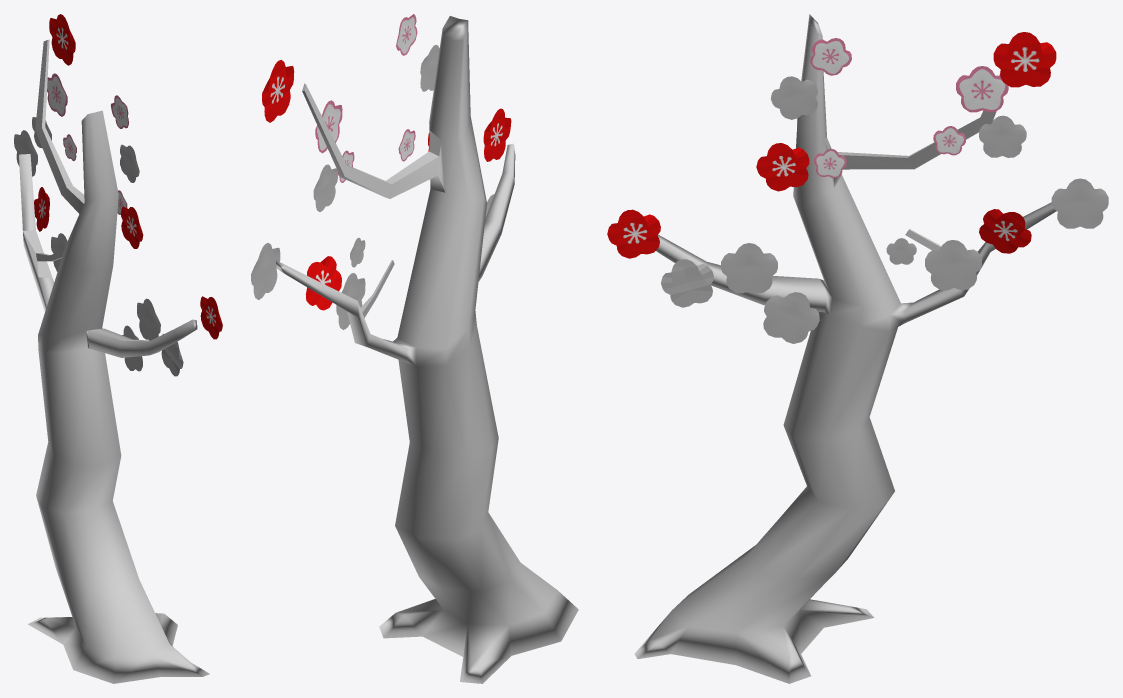
File: Ume.fbx
3 renders of one model, left to right at view 1: azimuth 30°, elevation 25°; view 2: azimuth 150°, elevation 25°; view 3: azimuth 270°, elevation 25°, orthographic. The views are drawn at different scales.
Parts seen in each view (by area): view 1: pCube3; view 2: pCube3; view 3: pCube3.
Boxes of the visible parts, bbox=[...] form: pCube3: bbox=[14, 14, 222, 683]; pCube3: bbox=[251, 14, 578, 683]; pCube3: bbox=[607, 14, 1108, 683].
Bounding box in the file's own units: 477 × 1938 × 1371.
